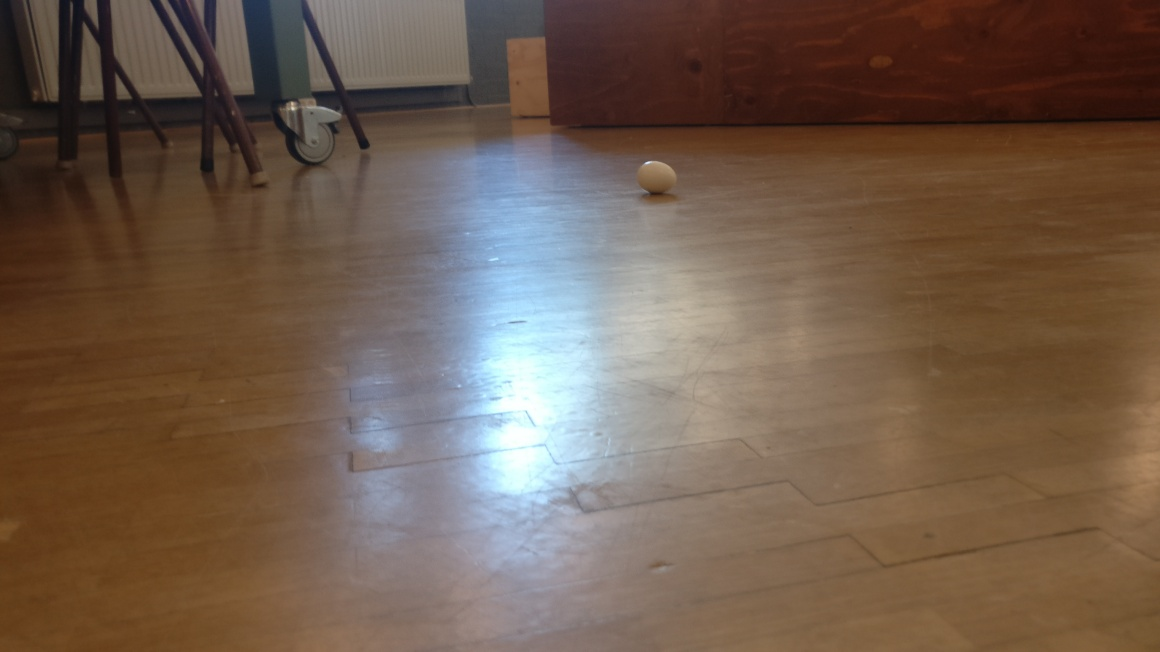egg: (635, 158, 677, 194)
